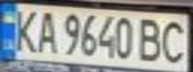0: (115, 14, 139, 61)
4: (97, 12, 118, 60)
6: (78, 11, 100, 57)
9: (57, 9, 81, 56)
A: (33, 7, 60, 55)
B: (136, 16, 166, 63)
C: (157, 17, 190, 64)
K: (6, 6, 42, 54)
